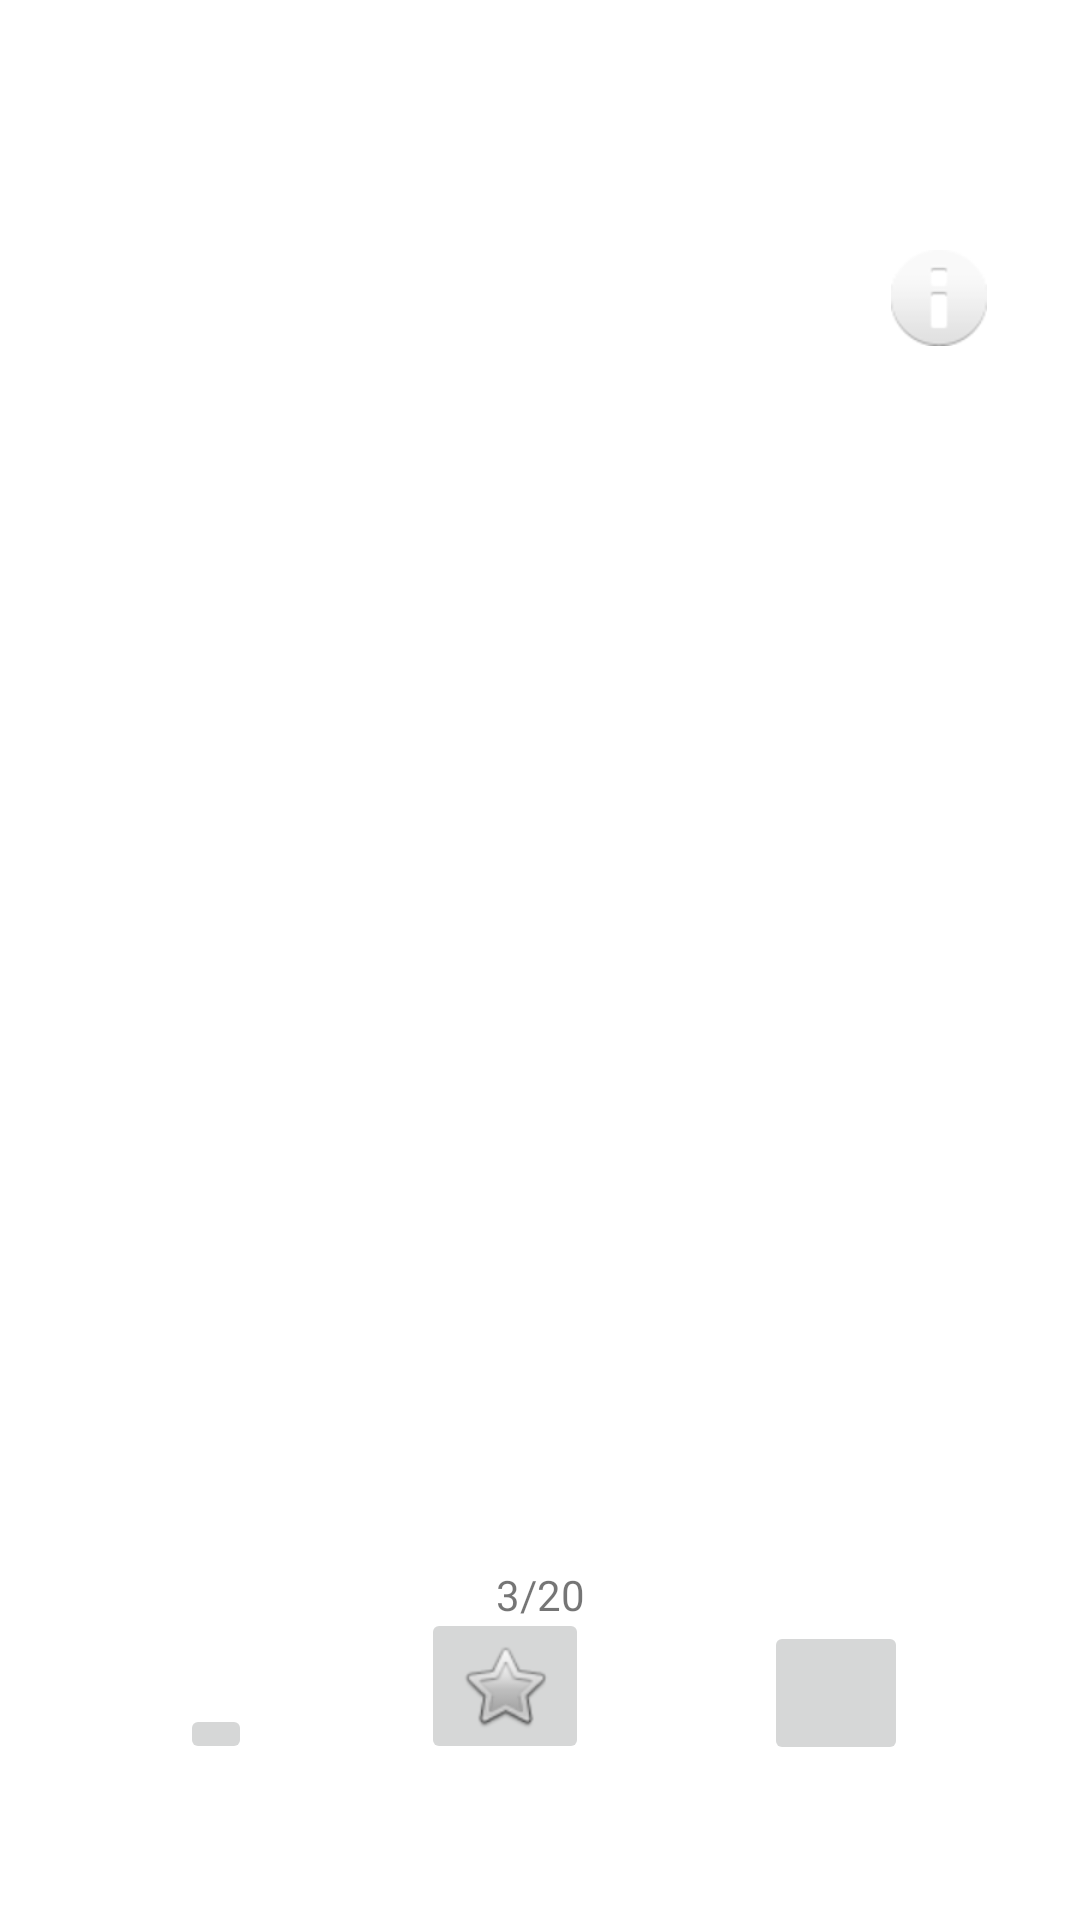

Where icons sit on this 1080 × 1920 app screen, as region(x1, y1, x2, y2):
info: region(891, 268, 987, 346)
